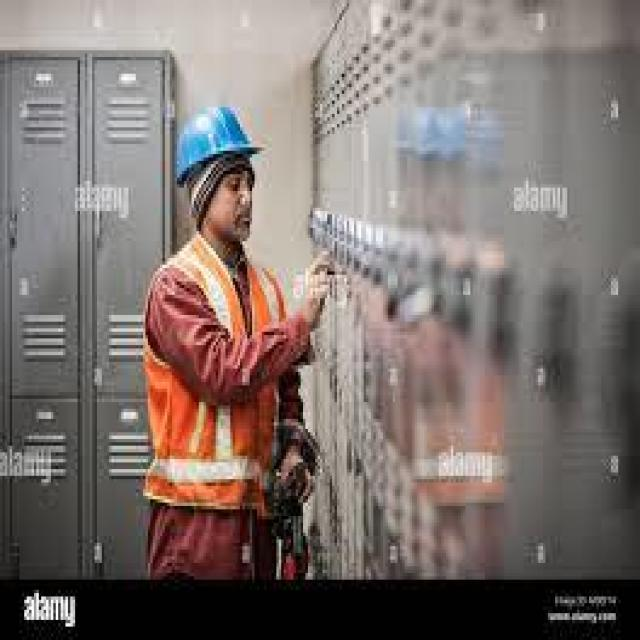safety_helmet: (142, 228, 292, 513)
